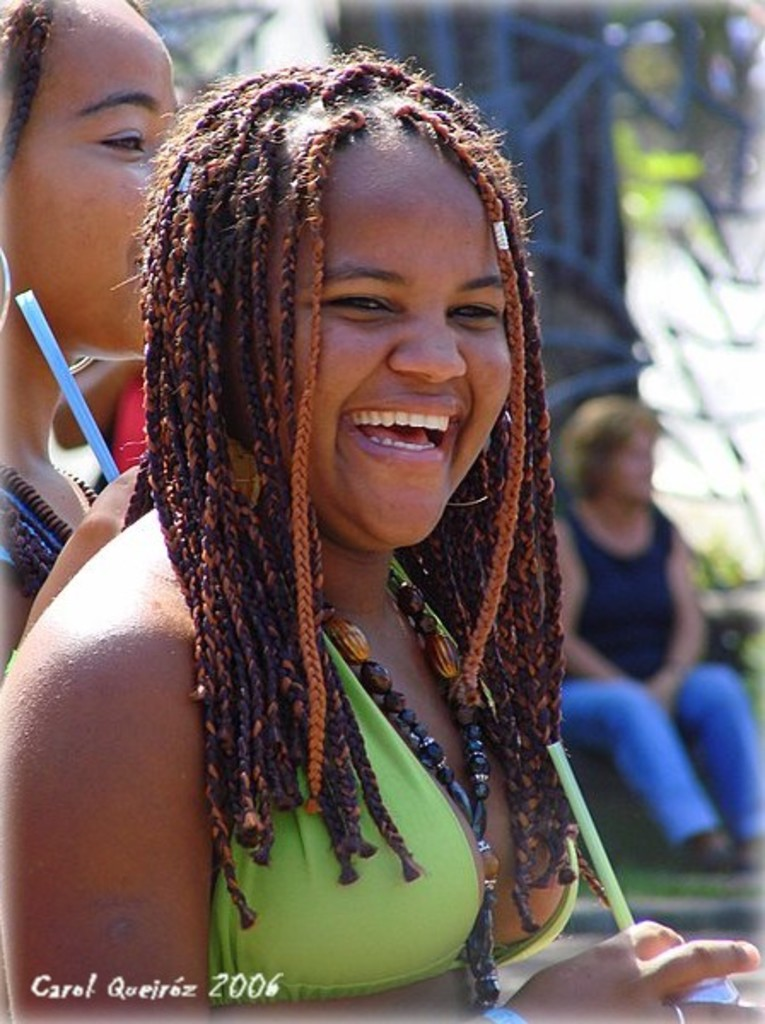face: (6, 10, 177, 377)
